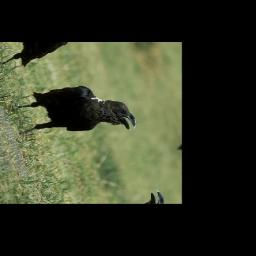Crow: (3, 63, 142, 166)
